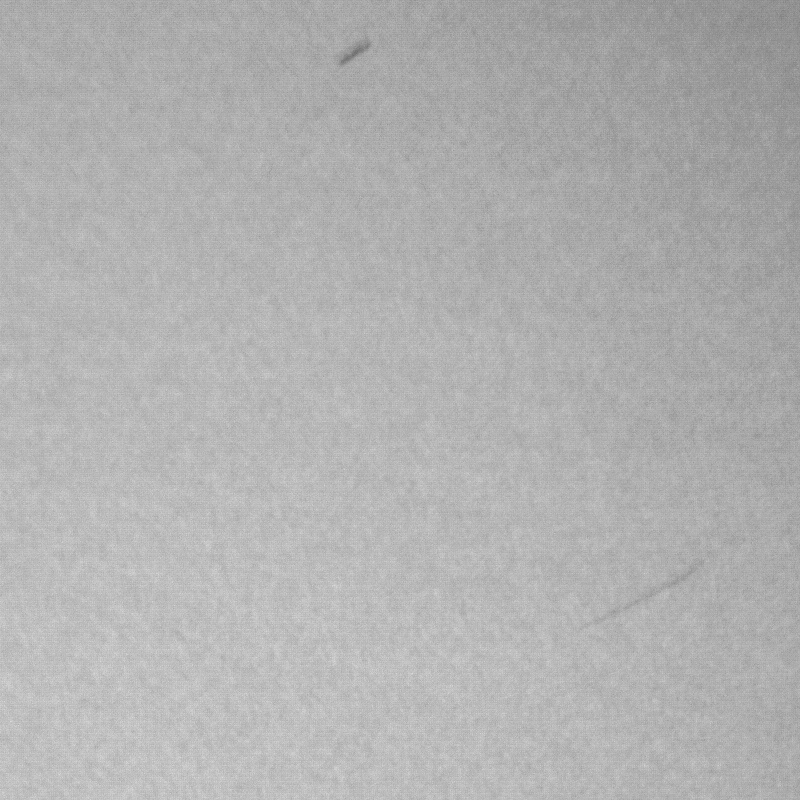defect: (576, 562, 706, 635), (335, 42, 373, 70)
